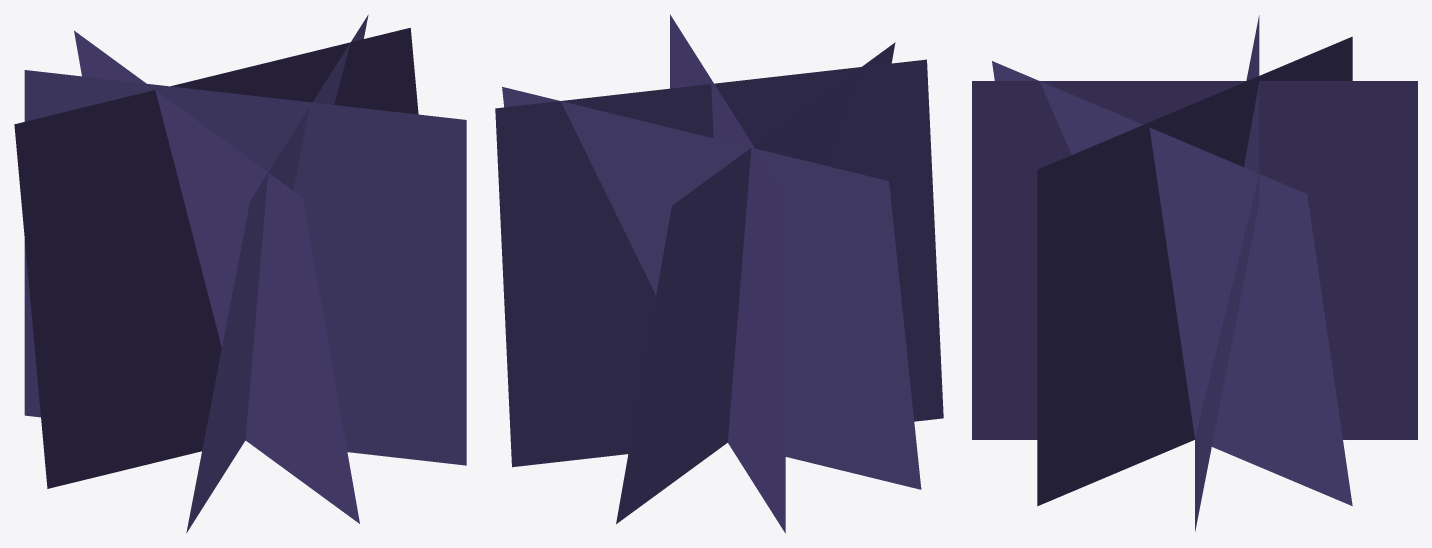
The model's file is BarleyTuft.fbx.
3 views of the same model, side by side, from view 1: azimuth 30°, elevation 25°; view 2: azimuth 150°, elevation 25°; view 3: azimuth 270°, elevation 25° (orthographic). The views are drawn at different scales.
Parts seen in each view (by area): view 1: pPlane5; view 2: pPlane5; view 3: pPlane5.
Boxes of the visible parts, x1=… form: pPlane5: x1=14, y1=14, x2=466, y2=533; pPlane5: x1=495, y1=14, x2=943, y2=533; pPlane5: x1=972, y1=15, x2=1417, y2=531.
Size of the model in its own units: 1.2 by 1 by 1.2.
